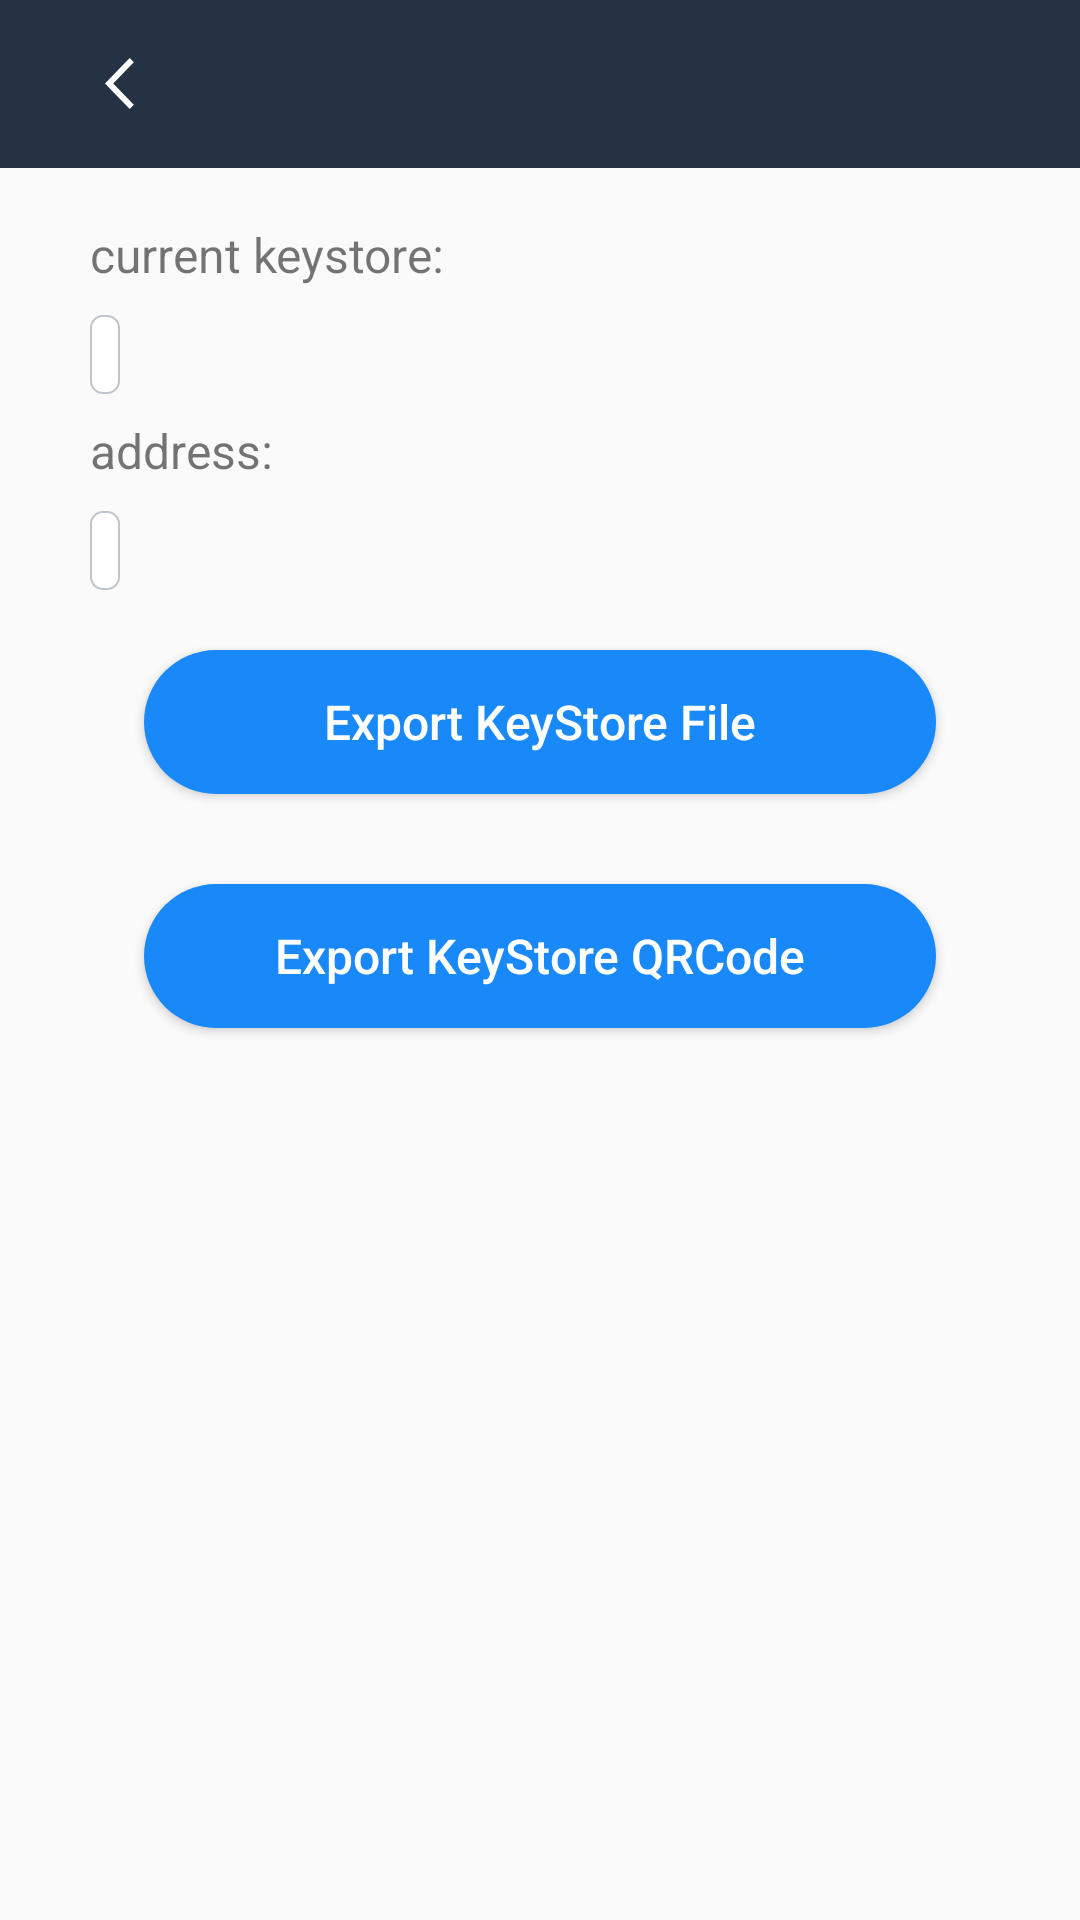

Point at icon controls on the screen. Image size 1080px×1920px, points as point (x, y).
back: point (119, 83)
